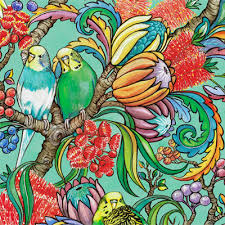budgie: (17, 45, 57, 164), (56, 48, 98, 123)
